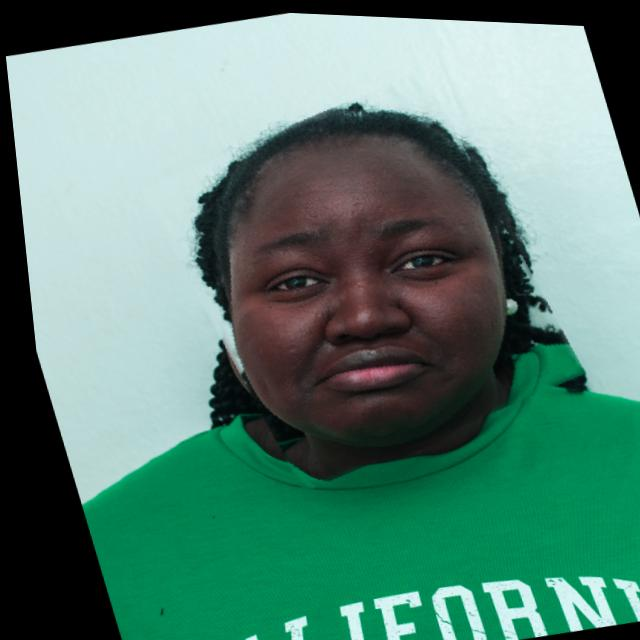sad: (132, 61, 584, 495)
